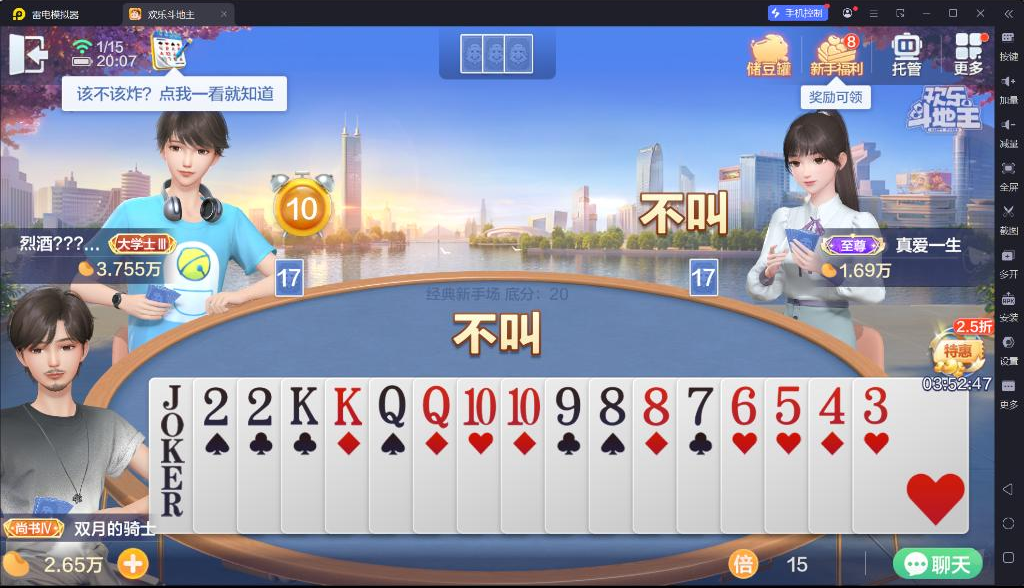K: (329, 381, 364, 427), (285, 383, 320, 428)
Q: (374, 382, 408, 429), (420, 382, 454, 429)
eight: (639, 384, 673, 428), (597, 385, 629, 427)
five: (771, 384, 804, 426)
four: (816, 385, 848, 427)
joker: (154, 383, 188, 469)
nine: (550, 384, 582, 427)
seven: (683, 385, 715, 427)
six: (726, 381, 760, 427)
ten: (504, 383, 541, 428), (461, 383, 497, 428)
three: (861, 384, 892, 426)
two: (199, 383, 233, 428), (245, 384, 274, 427)
